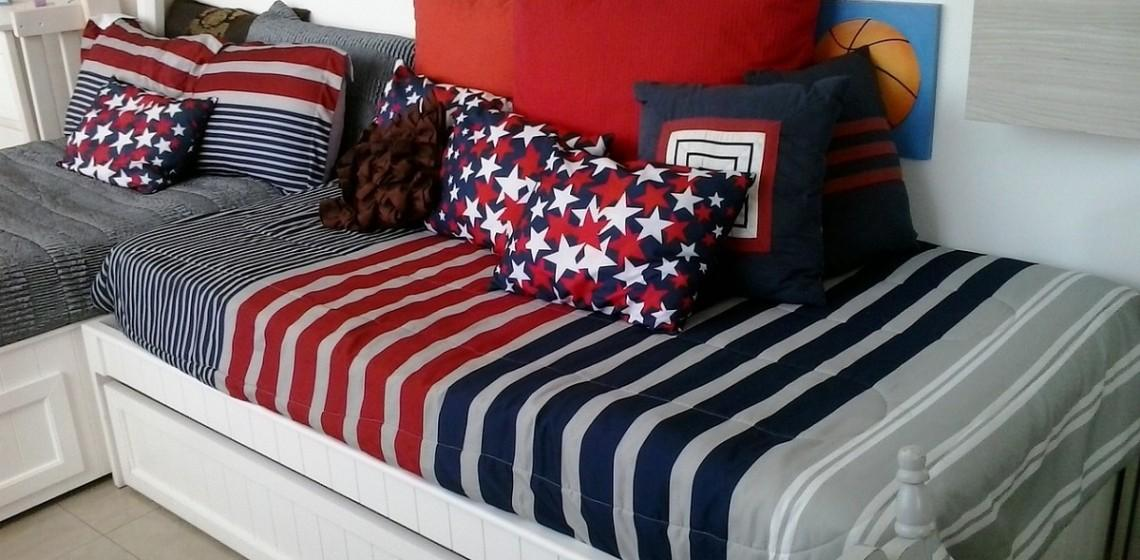bed: (294, 117, 1120, 560)
